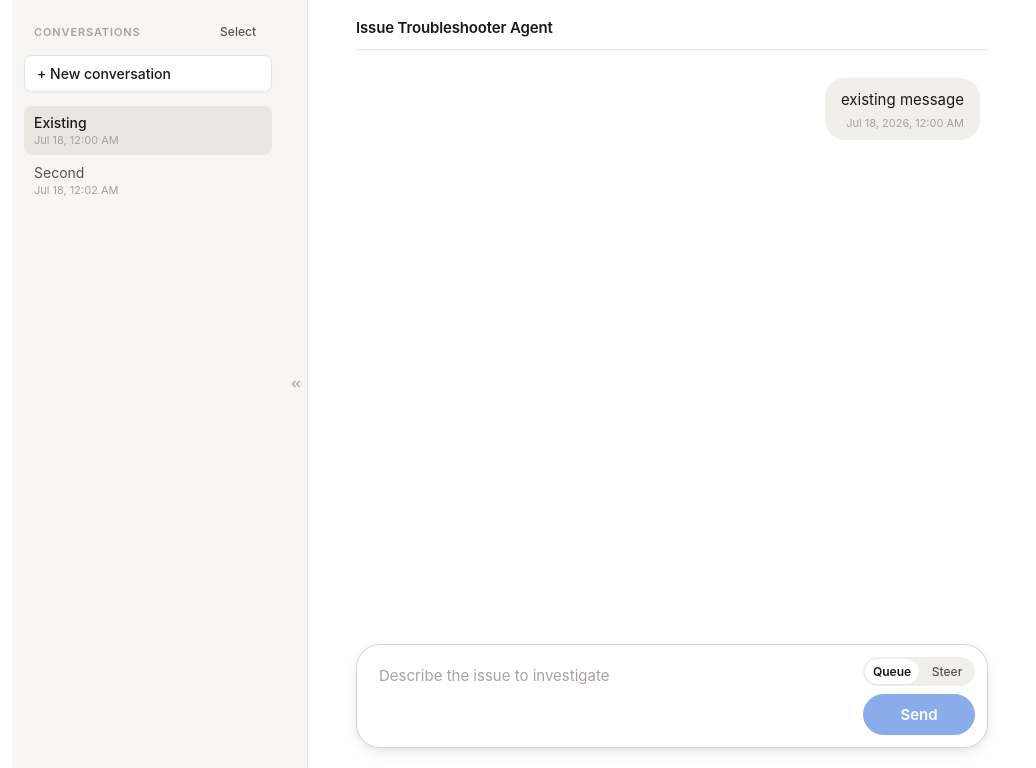
Scenario: App collapsible conversation list › shows the sidebar by default and hides it when toggled
Expected: the text "Existing" is shown, left=34, top=114, right=87, bottom=131
Expected: the element with id "conversation-sidebar" is shown, left=12, top=0, right=284, bottom=767
Click the button named "Hide conversations". click: point(296, 384)
box: left=286, top=360, right=306, bottom=408
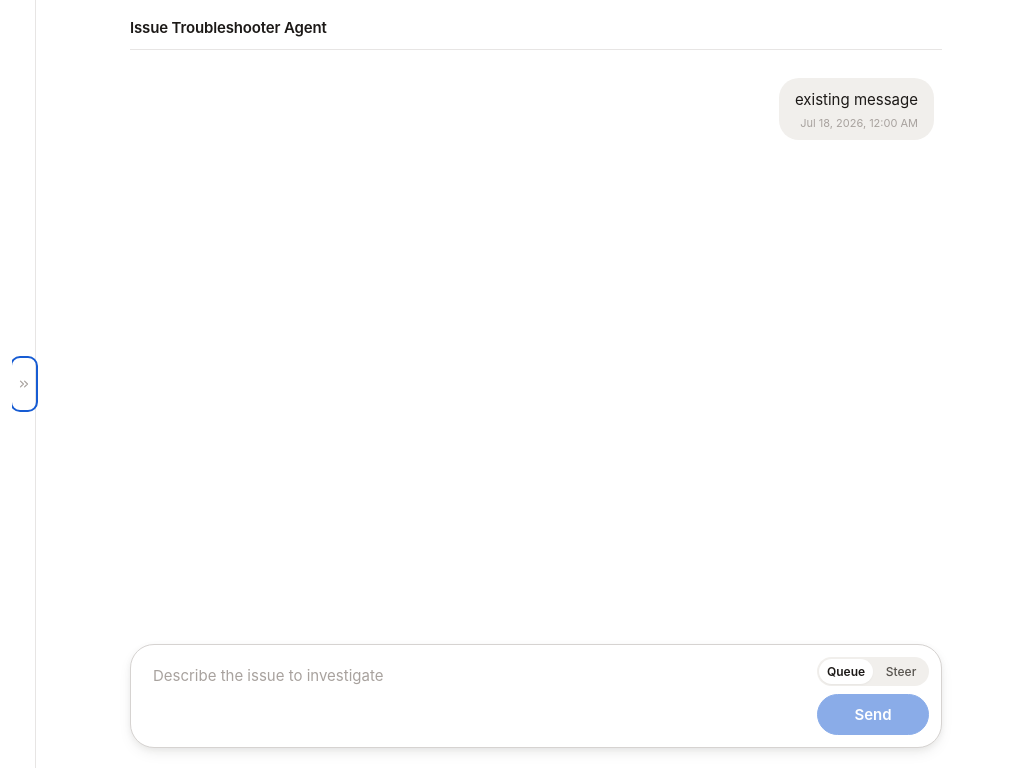
Now the element with id "conversation-sidebar" is gone
Now the button named "Show conversations" is collapsed, box left=14, top=360, right=34, bottom=408
